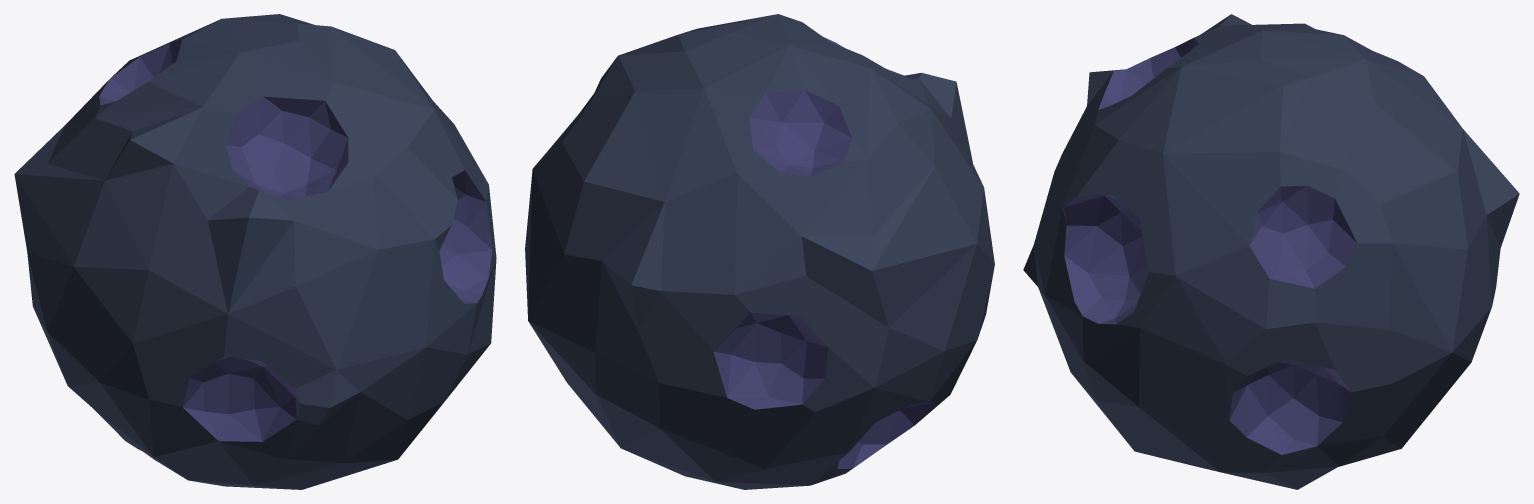
Rendered from Planet15.fbx.
3 renders of one model, left to right at view 1: azimuth 30°, elevation 25°; view 2: azimuth 150°, elevation 25°; view 3: azimuth 270°, elevation 25°, orthographic.
Visible parts, largest first — view 1: Planet15; view 2: Planet15; view 3: Planet15.
Part boxes in pixels (x1,y1,x2,y2): Planet15: (14, 14, 496, 489); Planet15: (525, 14, 994, 489); Planet15: (1023, 14, 1519, 489).
Bounding box in the file's own units: 10.89 × 10.78 × 11.57.
